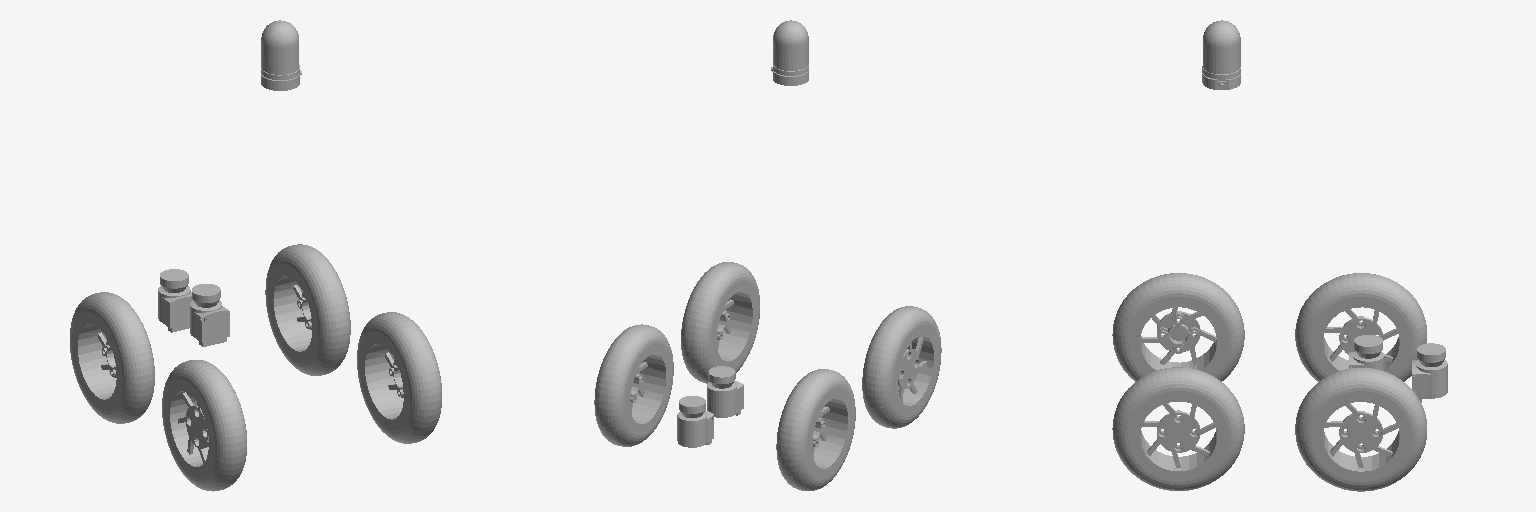
robot.urdf — xy:
<robot
  name="xy">

  <link
    name="base_footprint">
    <visual>
      <origin
        xyz="0 0 0.2984495120400078"
        rpy="1.5707963267949 0 3.1415926535898" />
      <geometry>
        <mesh
          filename="package://af_bringup/meshes/base_footprint.STL" />
      </geometry>
      <material
        name="">
        <color
          rgba="0.752941176470588 0.752941176470588 0.752941176470588 1" />
      </material>
    </visual>
  </link>


  <link
    name="base_link">
    <visual>
      <origin
        xyz="0 0 0"
        rpy="1.5707963267949 0 1.5707963267949" />
      <geometry>
        <mesh
          filename="package://af_bringup/meshes/base_footprint.STL" />
      </geometry>
      <material
        name="">
        <color
          rgba="0.752941176470588 0.752941176470588 0.752941176470588 1" />
      </material>
    </visual>
  </link>
  <joint
    name="base_link_joint"
    type="fixed">
    <origin
      xyz="0 0 0.2984495120400078"
      rpy="0 0 1.5707963267949" />
    <parent
      link="base_footprint" />
    <child
      link="base_link" />
    <axis
      xyz="0 0 0" />
  </joint>


  <link
    name="laser">
    <visual>
      <origin
        xyz="0 0 0"
        rpy="0 0 1.5707963267949" />
      <geometry>
        <mesh
          filename="package://af_bringup/meshes/laser.STL" />
      </geometry>
      <material
        name="">
        <color
          rgba="0.752941176470588 0.752941176470588 0.752941176470588 1" />
      </material>
    </visual>
  </link>
  <joint
    name="laser_joint"
    type="fixed">
    <origin
      xyz="0.59 0 0.026"
      rpy="0 0 0" />
    <parent
      link="base_link" />
    <child
      link="laser" />
    <axis
      xyz="0 0 0" />
  </joint>

  <link
    name="imu">
    <visual>
      <origin
        xyz="0 0 0"
        rpy="0 0 1.5707963267949" />
      <geometry>
        <mesh
          filename="package://af_bringup/meshes/laser.STL" />
      </geometry>
      <material
        name="">
        <color
          rgba="0.752941176470588 0.752941176470588 0.752941176470588 1" />
      </material>
    </visual>
  </link>
  <joint
    name="imu_joint"
    type="fixed">
    <origin
      xyz="0.39 0 0.056"
      rpy="0 0 0" />
    <parent
      link="base_link" />
    <child
      link="imu" />
    <axis
      xyz="0 0 0" />
  </joint>

  <link
    name="wheel1">
    <visual>
      <origin
        xyz="0 0 0"
        rpy="1.5707963267949 0 0" />
      <geometry>
        <mesh
          filename="package://af_bringup/meshes/wheel1.STL" />
      </geometry>
      <material
        name="">
        <color
          rgba="0.752941176470588 0.752941176470588 0.752941176470588 1" />
      </material>
    </visual>
  </link>
  <joint
    name="base_wheel1"
    type="fixed">
    <origin
      xyz="0.36689 0.353838628838196 -0.0884495120400078"
      rpy="0 0 0" />
    <parent
      link="base_link" />
    <child
      link="wheel1" />
    <axis
      xyz="0 0 0" />
  </joint>



  <link
    name="wheel2">
    <visual>
      <origin
        xyz="0 0 0"
        rpy="1.5707963267949 0 0" />
      <geometry>
        <mesh
          filename="package://af_bringup/meshes/wheel2.STL" />
      </geometry>
      <material
        name="">
        <color
          rgba="0.752941176470588 0.752941176470588 0.752941176470588 1" />
      </material>
    </visual>
  </link>
  <joint
    name="base_wheel2"
    type="fixed">
    <origin
      xyz="-0.21311 0.353805715763312 -0.0884495120400076"
      rpy="0 0 0" />
    <parent
      link="base_link" />
    <child
      link="wheel2" />
    <axis
      xyz="0 0 0" />
  </joint>



  <link
    name="wheel3">
    <visual>
      <origin
        xyz="0 0 0"
        rpy="-1.5707963267949 0 0" />
      <geometry>
        <mesh
          filename="package://af_bringup/meshes/wheel3.STL" />
      </geometry>
      <material
        name="">
        <color
          rgba="0.752941176470588 0.752941176470588 0.752941176470588 1" />
      </material>
    </visual>
  </link>
  <joint
    name="base_wheel3"
    type="fixed">
    <origin
      xyz="0.36689 -0.356514177677096 -0.0884495120400078"
      rpy="0 0 0" />
    <parent
      link="base_link" />
    <child
      link="wheel3" />
    <axis
      xyz="0 0 0" />
  </joint>



  <link
    name="wheel4">
    <visual>
      <origin
        xyz="0 0 0"
        rpy="-1.5707963267949 0 0" />
      <geometry>
        <mesh
          filename="package://af_bringup/meshes/wheel4.STL" />
      </geometry>
      <material
        name="">
        <color
          rgba="0.752941176470588 0.752941176470588 0.752941176470588 1" />
      </material>
    </visual>
  </link>
  <joint
    name="base_wheel4"
    type="fixed">
    <origin
      xyz="-0.21311 -0.353805715763312 -0.0884495120400078"
      rpy="0 0 0" />
    <parent
      link="base_link" />
    <child
      link="wheel4" />
    <axis
      xyz="0 0 0" />
  </joint>



  <link
    name="gps">
    <visual>
      <origin
        xyz="0 0 0"
        rpy="3.14159265358979 0 0" />
      <geometry>
        <mesh
          filename="package://af_bringup/meshes/camera.STL" />
      </geometry>
      <material
        name="">
        <color
          rgba="0.752941176470588 0.752941176470588 0.752941176470588 1" />
      </material>
    </visual>
  </link>
  <joint
    name="base_gps"
    type="fixed">
    <origin
      xyz="-0.07611 0 0.962"
      rpy="0 0 0" />
    <parent
      link="base_link" />
    <child
      link="gps" />
    <axis
      xyz="0 0 0" />
  </joint>
</robot>

--- What the picture shows (computed from the rendered views, not written in the file) ---
Views: 3 orthographic renders of the robot side by side, from view 1: azimuth 30°, elevation 25°; view 2: azimuth 150°, elevation 25°; view 3: azimuth 270°, elevation 25°.
Model xy with 9 links and 8 joints (8 fixed), rooted at base_footprint, posed all joints at 0.
Links seen in each view (by area): view 1: wheel1, wheel3, wheel4, wheel2, gps, imu, laser; view 2: wheel2, wheel3, wheel1, wheel4, gps, laser, imu; view 3: wheel4, wheel3, wheel2, wheel1, gps, laser, imu.
Link boxes in pixels (x1=…): wheel1: x1=70, y1=292, x2=154, y2=423; wheel3: x1=265, y1=244, x2=350, y2=375; wheel4: x1=357, y1=312, x2=441, y2=443; wheel2: x1=162, y1=360, x2=246, y2=491; gps: x1=261, y1=20, x2=301, y2=90; imu: x1=190, y1=284, x2=229, y2=346; laser: x1=158, y1=269, x2=192, y2=332; wheel2: x1=862, y1=306, x2=941, y2=428; wheel3: x1=594, y1=324, x2=673, y2=446; wheel1: x1=776, y1=369, x2=855, y2=490; wheel4: x1=681, y1=262, x2=759, y2=383; gps: x1=771, y1=20, x2=808, y2=85; laser: x1=677, y1=396, x2=713, y2=447; imu: x1=707, y1=366, x2=743, y2=417; wheel4: x1=1112, y1=367, x2=1244, y2=490; wheel3: x1=1295, y1=368, x2=1426, y2=491; wheel2: x1=1112, y1=273, x2=1244, y2=381; wheel1: x1=1295, y1=273, x2=1426, y2=381; gps: x1=1202, y1=20, x2=1240, y2=89; laser: x1=1412, y1=343, x2=1447, y2=402; imu: x1=1349, y1=335, x2=1384, y2=370.
Bounding box of the posed robot: 0.8204 × 1.06 × 1.47 m (x, y, z).
Meshes: 7 distinct files referenced, 7 mesh visuals loaded (6 binary STL); not drawn: 2 (reference not matched to a file when rendering).